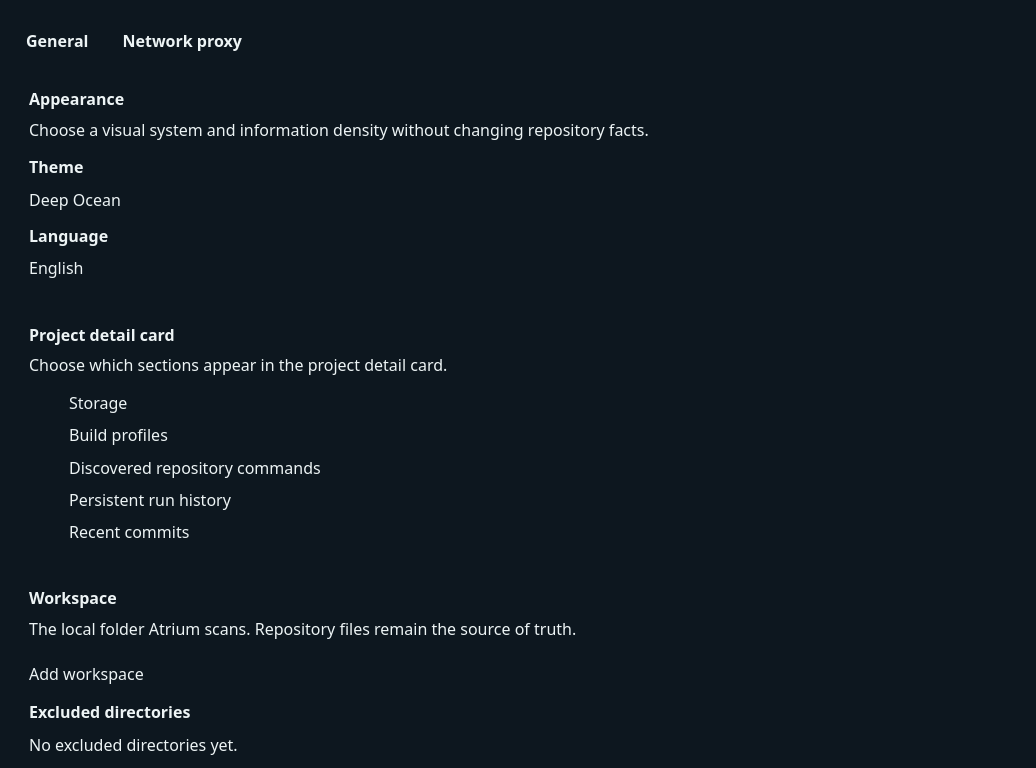
Test: build network proxy › shows the stored address and stores a newly typed one without a save click
Click the tab "Network proxy". click: coordinates (182, 41)
box: [108,24,256,58]
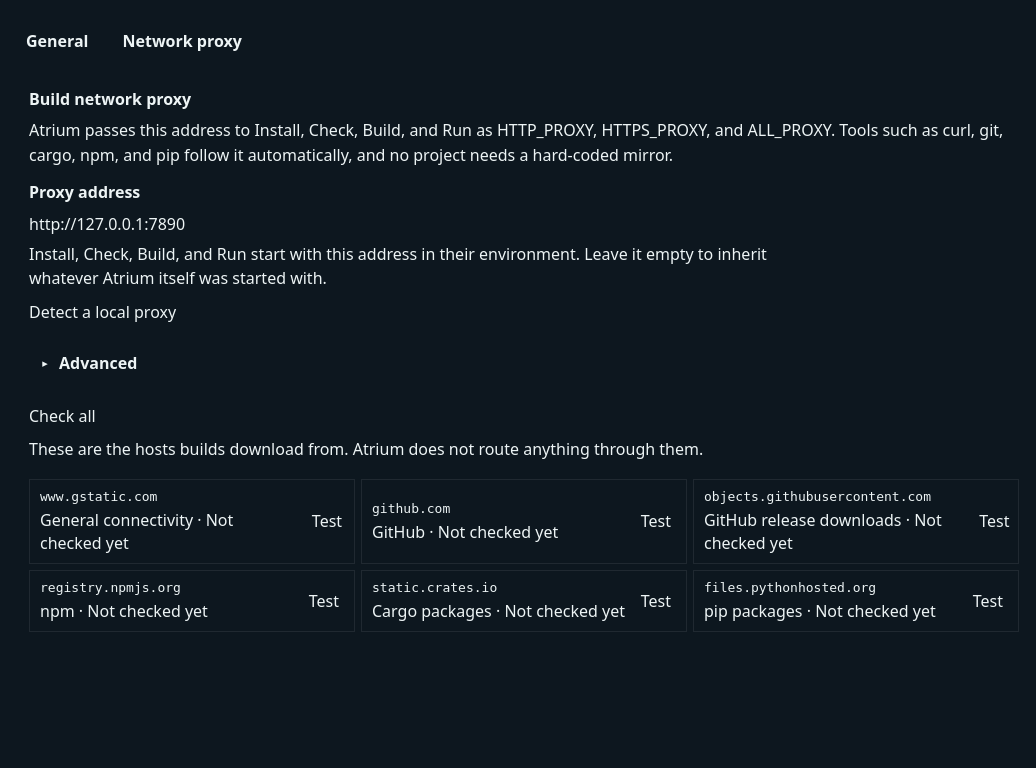
Expected: the field labelled "Proxy address" is shown
Expected: the field labelled "Proxy address" holds "http://127.0.0.1:7890"
Type "socks5://127.0.0.1:1080" into the field labelled "Proxy address". click: coordinates (259, 224)
box: [29,213,489,235]
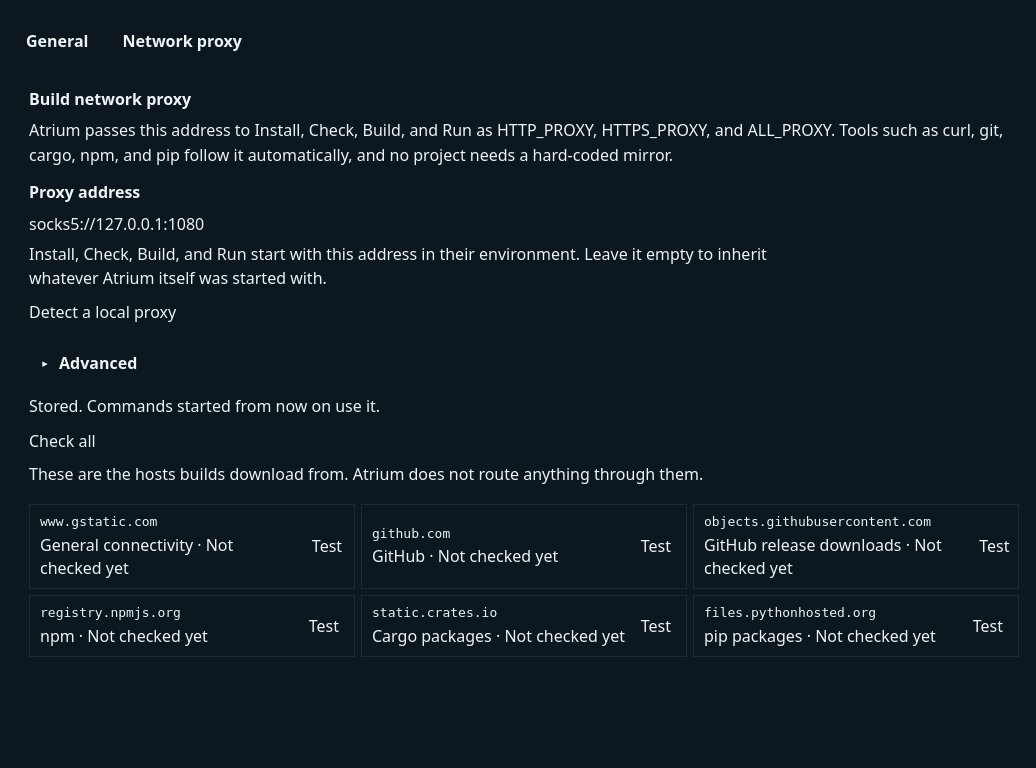
Expected: the text "Stored. Commands started from now on use it." is shown, [29,395,380,417]
